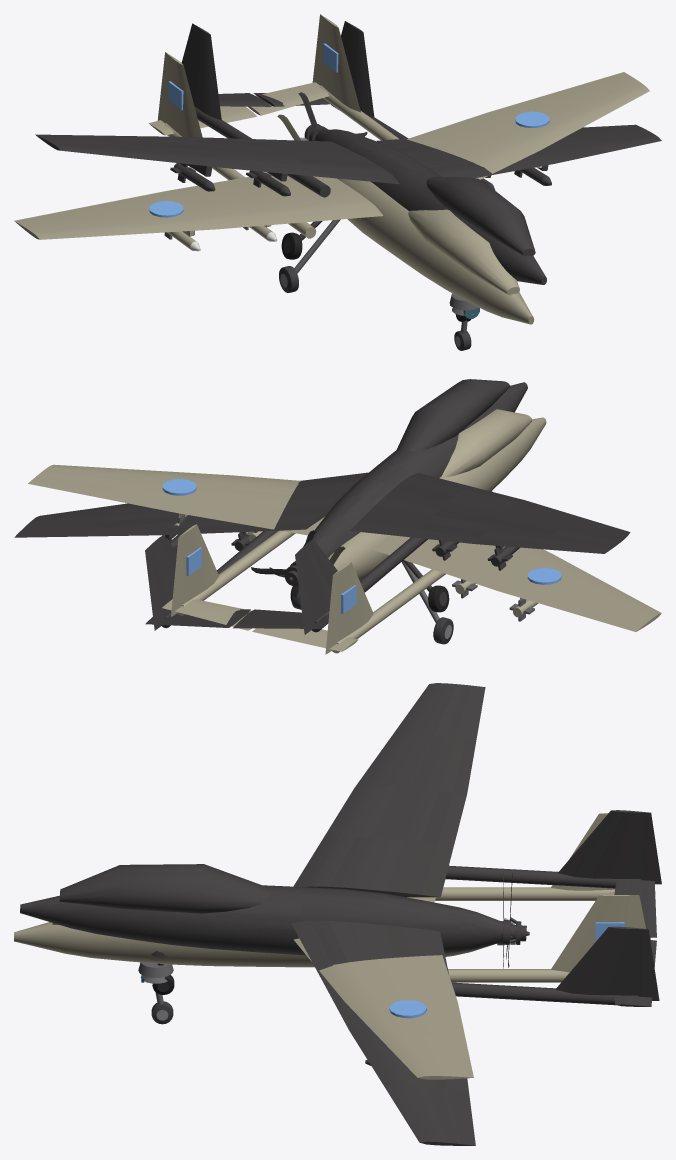
The model's file is drone__shahpar_ii_burraq.glb.
3 views of the same model, one above another, from view 1: azimuth 30°, elevation 25°; view 2: azimuth 150°, elevation 25°; view 3: azimuth 270°, elevation 25° (orthographic). The views are drawn at different scales.
Visible parts, largest first — view 1: Fuselage_Mesh, Wreck; view 2: Wreck, Fuselage_Mesh; view 3: Wreck, Fuselage_Mesh.
Boxes of the visible parts, box(x1,y1,x2,y2) form: Fuselage_Mesh: box(14, 14, 649, 350); Wreck: box(35, 21, 661, 321); Wreck: box(14, 379, 630, 634); Fuselage_Mesh: box(28, 409, 661, 654); Wreck: box(20, 683, 661, 1145); Fuselage_Mesh: box(14, 757, 650, 1079).
Size of what is drawn, in the model's own units: 9.65 by 2.63 by 8.03.
